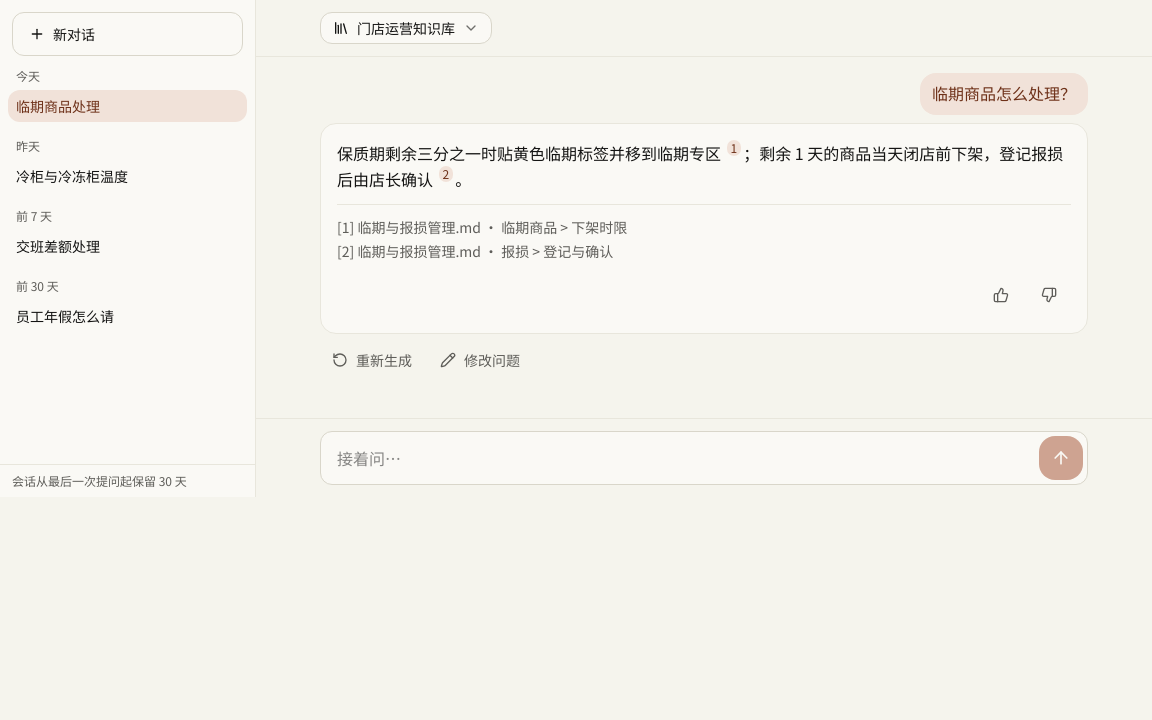
Test case: 提问 › 寒暄只回一句话，不列来源
Expected: the element named "问答：临期商品怎么处理？" is shown, [320,73,1088,378]
Type "谢谢" into the field named "输入问题" at (684, 458), box [337,436,1031,480]
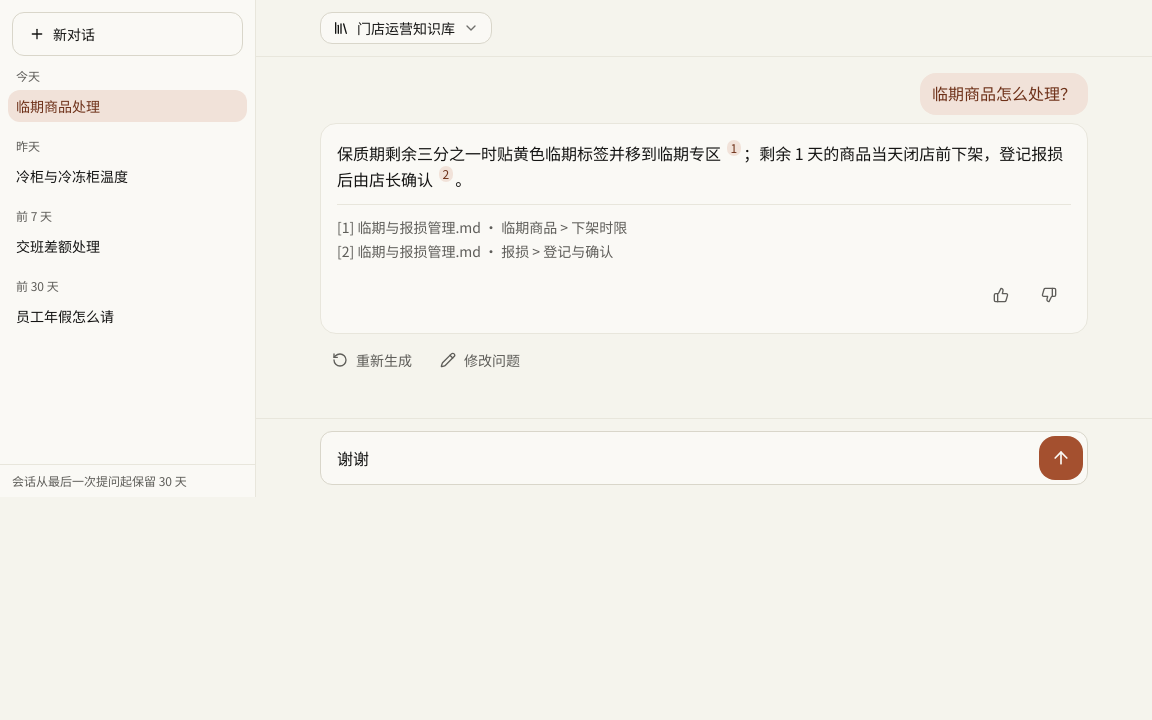
Click the button named "发送" at (1061, 458), box [1039,436,1083,480]
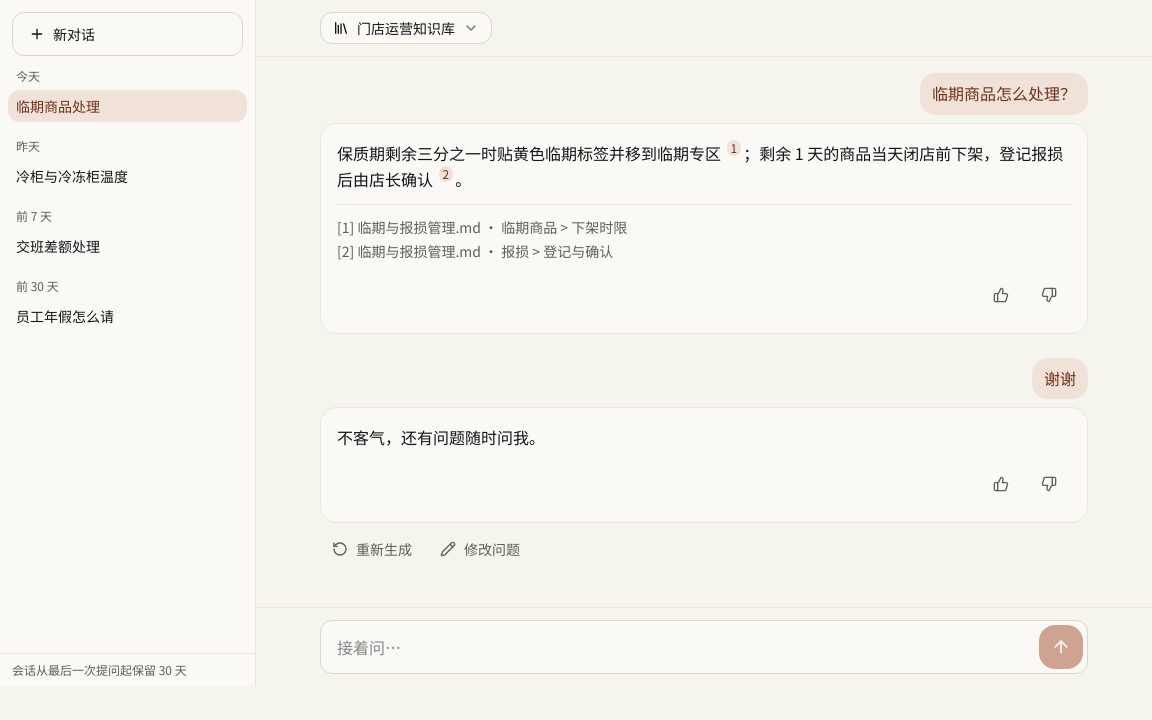
Now the element named "回答" is shown, box [320,407,1088,523]
Now the element named "回答" reads "不客气，还有问题随时问我。", box [337,425,545,449]
